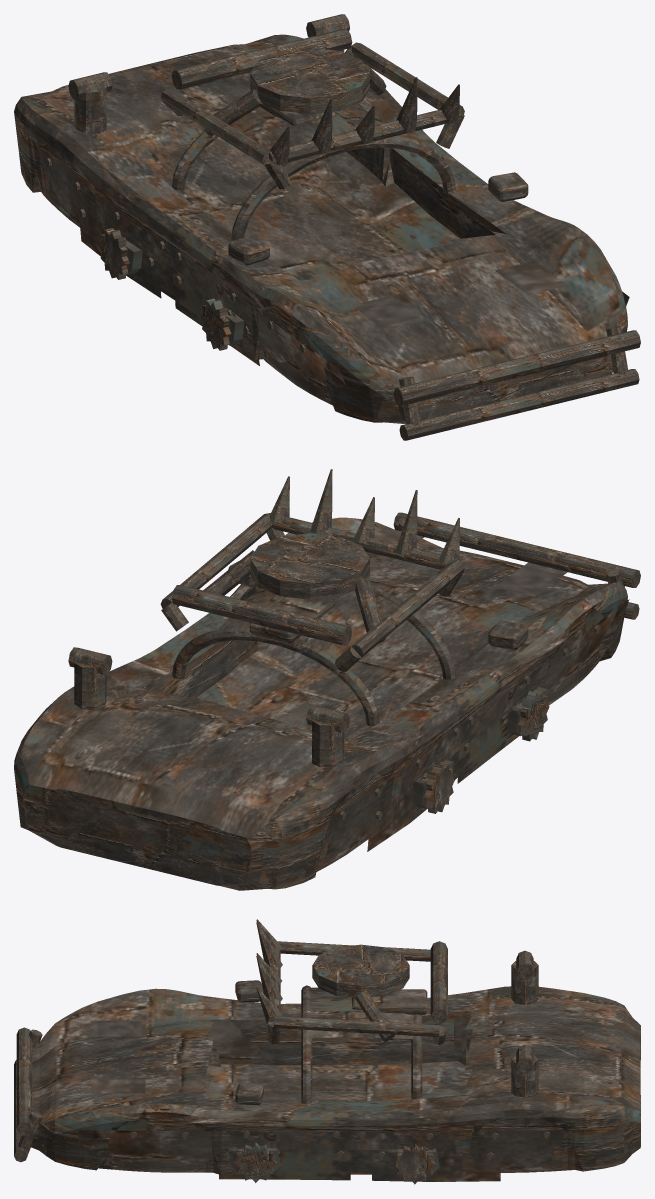
Rendered from mclaren_f1.glb.
3 renders of one model, top to bottom at view 1: azimuth 30°, elevation 25°; view 2: azimuth 150°, elevation 25°; view 3: azimuth 270°, elevation 25°, orthographic. The views are drawn at different scales.
Parts seen in each view (by area): view 1: kit-full-plating-painted-metal, kit-bull-bar-painted-metal, kit-turret-mount-painted-metal, kit-cage-painted-metal, kit-scrapper-painted-metal, warlord-crossbar, kit-crown-painted-metal, kit-raider-painted-metal, kit-plate-2-painted-metal, kit-stack-0-painted-metal, kit-plate-3-painted-metal, kit-saw-1-guard-painted-metal (+2 smaller); view 2: kit-full-plating-painted-metal, kit-turret-mount-painted-metal, kit-cage-painted-metal, kit-bull-bar-painted-metal, warlord-crossbar, kit-crown-painted-metal, kit-raider-painted-metal, kit-scrapper-painted-metal, kit-plate-3-painted-metal, kit-stack-1-painted-metal, kit-stack-0-painted-metal, kit-plate-2-painted-metal (+2 smaller); view 3: kit-full-plating-painted-metal, kit-turret-mount-painted-metal, kit-raider-painted-metal, kit-scrapper-painted-metal, kit-cage-painted-metal, kit-plate-0-painted-metal, kit-plate-1-painted-metal, kit-bull-bar-painted-metal, kit-crown-painted-metal, kit-saw-1-painted-metal, kit-saw-0-painted-metal, warlord-crossbar (+4 smaller).
Boxes of the visible parts, x1,y1,x2,y2 form: kit-full-plating-painted-metal: [14, 34, 627, 423]; kit-bull-bar-painted-metal: [393, 326, 640, 440]; kit-turret-mount-painted-metal: [203, 47, 386, 136]; kit-cage-painted-metal: [160, 42, 464, 189]; kit-scrapper-painted-metal: [107, 206, 243, 316]; warlord-crossbar: [171, 29, 352, 89]; kit-crown-painted-metal: [270, 77, 459, 165]; kit-raider-painted-metal: [78, 206, 259, 365]; kit-plate-2-painted-metal: [236, 296, 345, 384]; kit-stack-0-painted-metal: [68, 72, 112, 133]; kit-plate-3-painted-metal: [39, 149, 112, 228]; kit-saw-1-guard-painted-metal: [200, 298, 244, 350]; kit-full-plating-painted-metal: [14, 517, 627, 890]; kit-turret-mount-painted-metal: [203, 533, 386, 643]; kit-cage-painted-metal: [160, 513, 464, 671]; kit-bull-bar-painted-metal: [393, 512, 640, 619]; warlord-crossbar: [171, 585, 352, 645]; kit-crown-painted-metal: [269, 469, 459, 563]; kit-raider-painted-metal: [238, 641, 518, 851]; kit-scrapper-painted-metal: [228, 640, 537, 807]; kit-plate-3-painted-metal: [325, 763, 412, 857]; kit-stack-1-painted-metal: [68, 647, 112, 710]; kit-stack-0-painted-metal: [306, 705, 349, 766]; kit-plate-2-painted-metal: [532, 599, 629, 695]; kit-full-plating-painted-metal: [31, 980, 640, 1174]; kit-turret-mount-painted-metal: [312, 944, 409, 1041]; kit-raider-painted-metal: [219, 1038, 500, 1181]; kit-scrapper-painted-metal: [231, 1033, 445, 1168]; kit-cage-painted-metal: [267, 941, 445, 1044]; kit-plate-0-painted-metal: [78, 1130, 240, 1163]; kit-plate-1-painted-metal: [439, 1130, 565, 1165]; kit-bull-bar-painted-metal: [14, 1027, 42, 1162]; kit-crown-painted-metal: [256, 919, 282, 1023]; kit-saw-1-painted-metal: [228, 1142, 279, 1182]; kit-saw-0-painted-metal: [387, 1143, 439, 1184]; warlord-crossbar: [430, 941, 447, 1023].
Bounding box in the file's own units: 2.17 × 1.46 × 4.39.
Materials: 1 (1 with a texture image).
